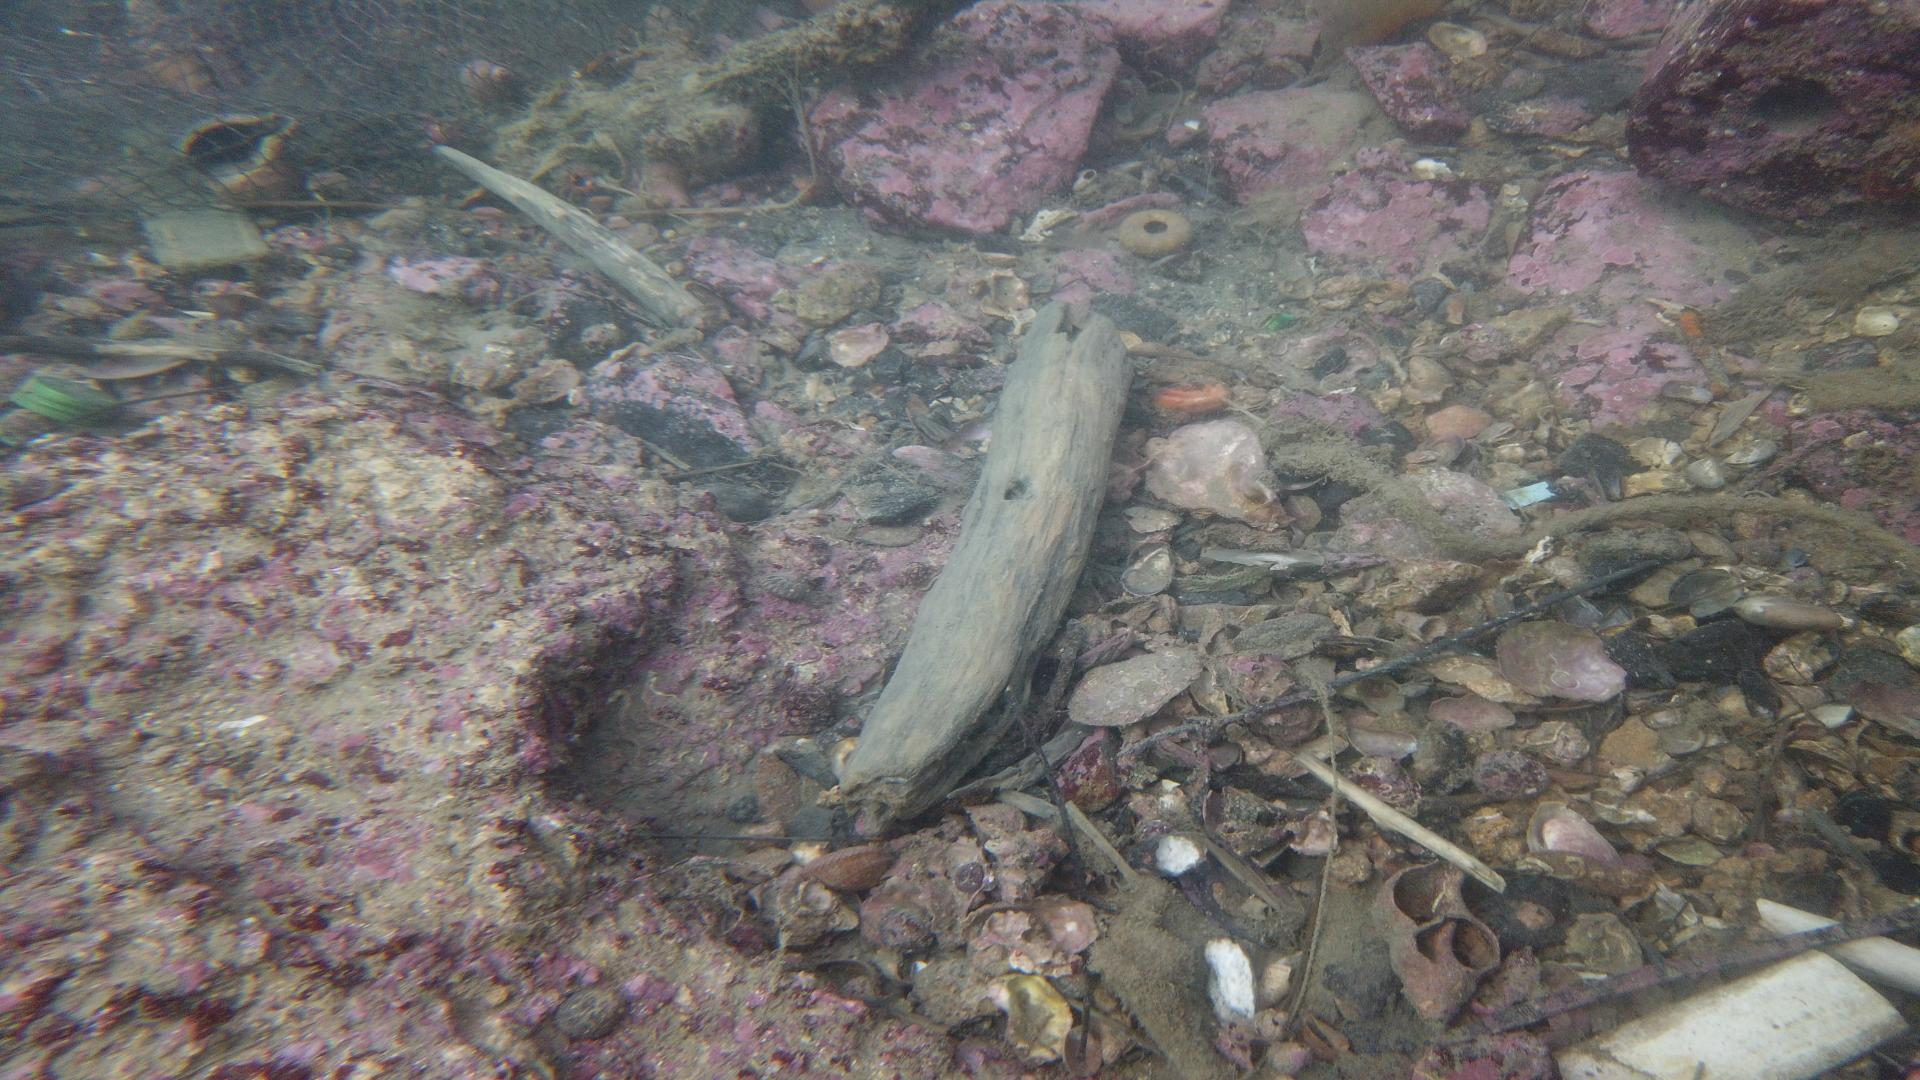fish net: (0, 0, 600, 208)
rope: (1269, 439, 1920, 584)
wood: (835, 297, 1135, 833), (430, 142, 708, 331)
